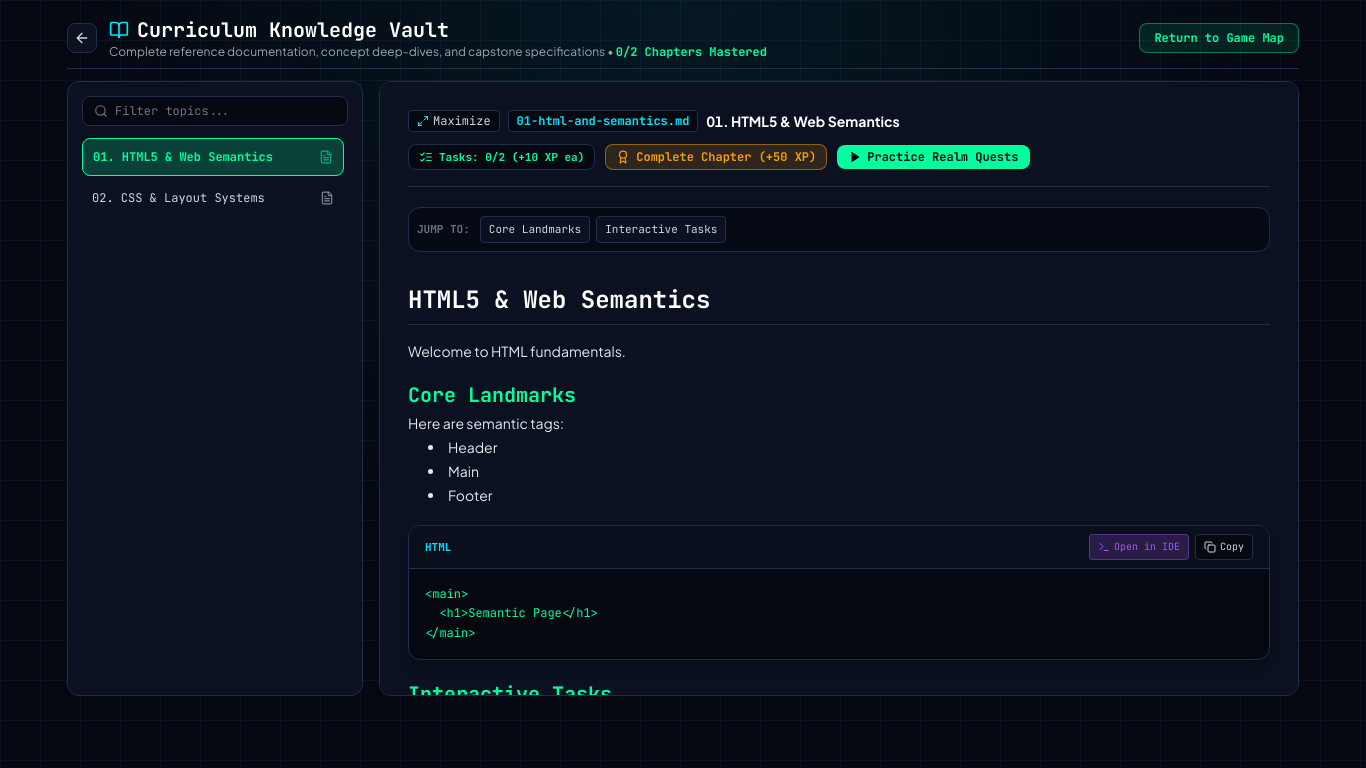
Test: CurriculumViewer Component › switches active document when clicking another chapter in sidebar
The width and height of the screenshot is (1366, 768).
Click the button "02. CSS & Layout Systems": click(213, 198) [82,180,344,216]
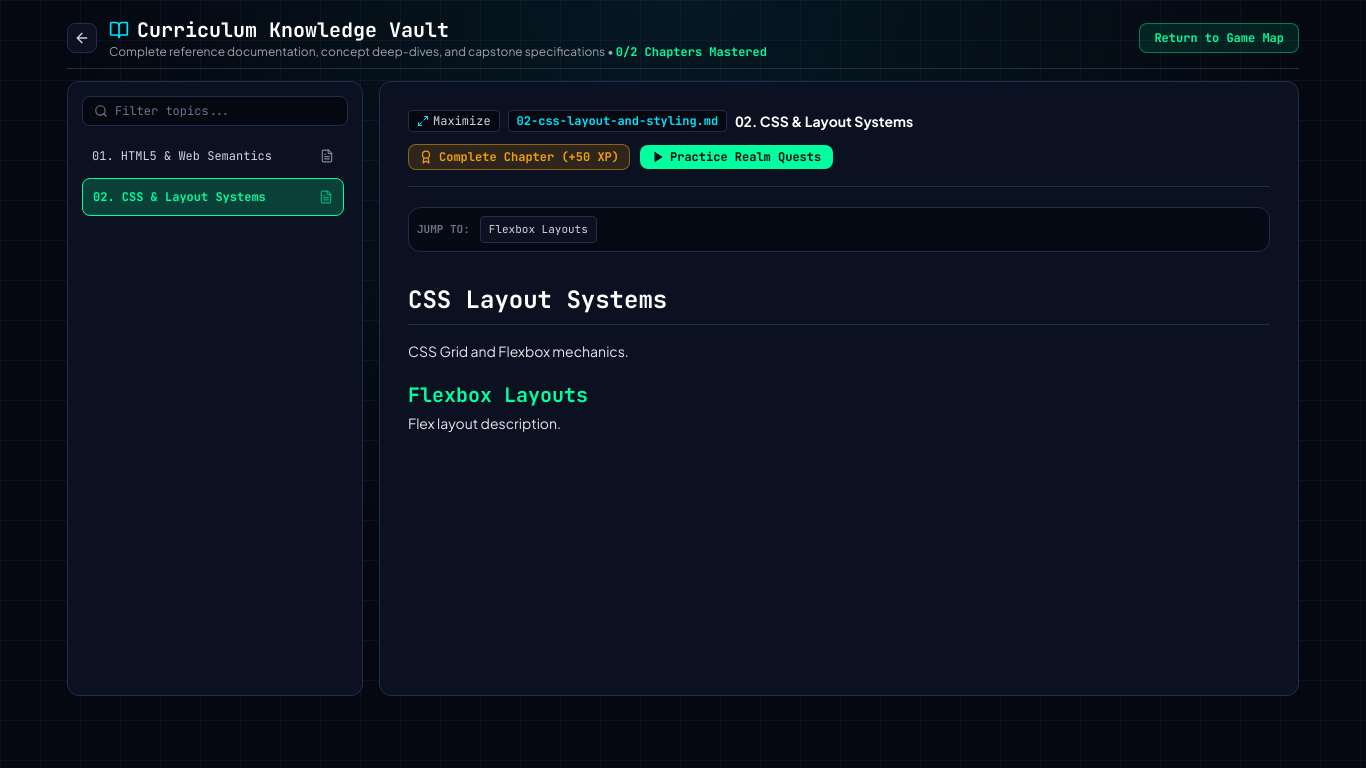
Check: the heading "CSS Layout Systems" is shown, box [408,284,1270,324]
Check: the heading "Flexbox Layouts" is shown, box [408,382,588,408]
